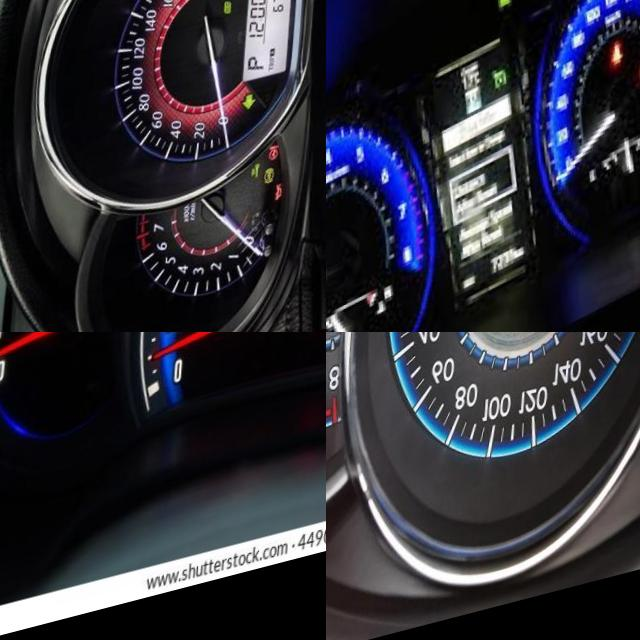Electronic Power Steering: (275, 167, 286, 185)
Seat Belt: (613, 63, 627, 89)
